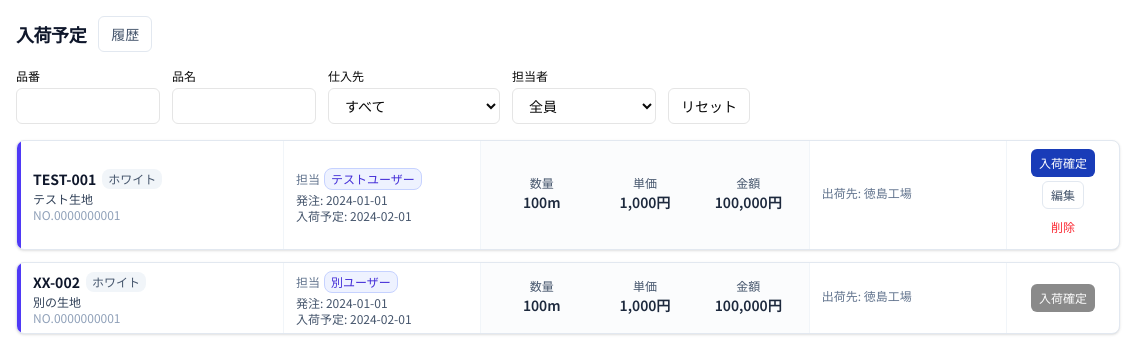
Test: TokushimaFabricPurchaseOrderTable フィルター › リセットを押すと絞り込みが解除される
Type "別の" into the field labelled "品名". click: (244,106)
box: [172,88,316,124]
Wait 300 ms
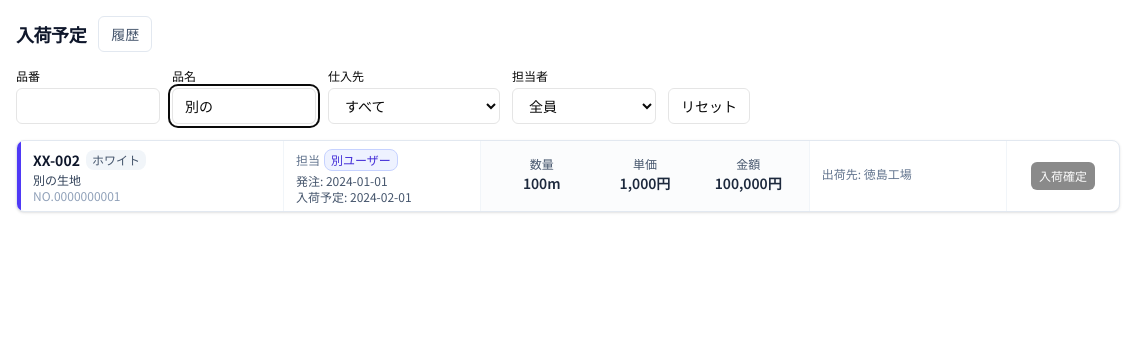
Click the button "リセット". click: (709,106)
box: [668,88,750,124]
Wait 300 ms
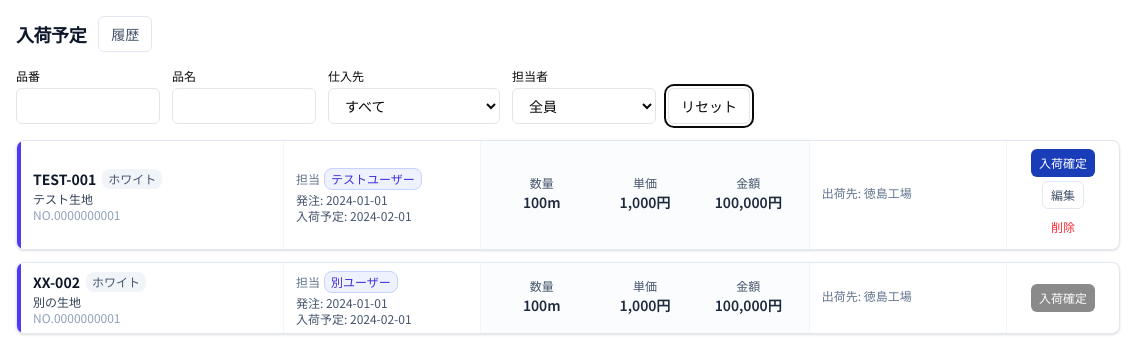
Result: the field labelled "品名" is empty at [172,88,316,124]
Result: the text "TEST-001" is shown at [33,172,96,186]
